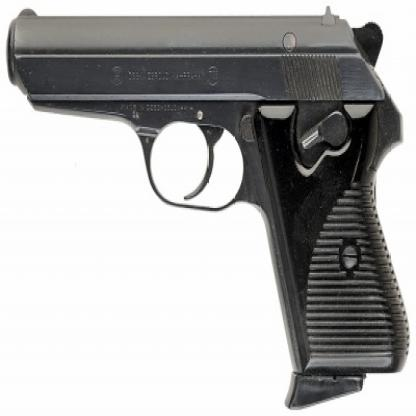Guns: (3, 1, 415, 414)
